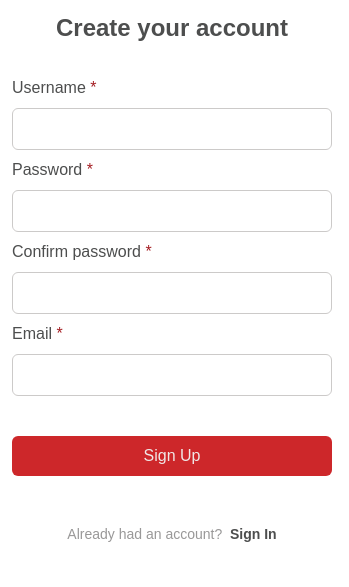
Test: register page › validates form fields - missing email
In the field labelled "Username": (172, 129) [12,108,332,150], type "Jessica"
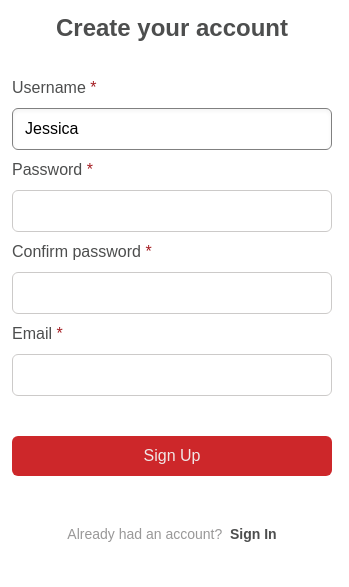
In the field labelled "Password": (172, 211) [12,190,332,232], type "abcdefgh"
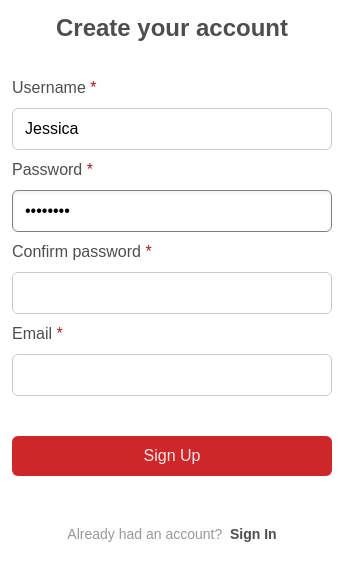
In the field labelled "Confirm password": (172, 293) [12,272,332,314], type "abcdefgh"
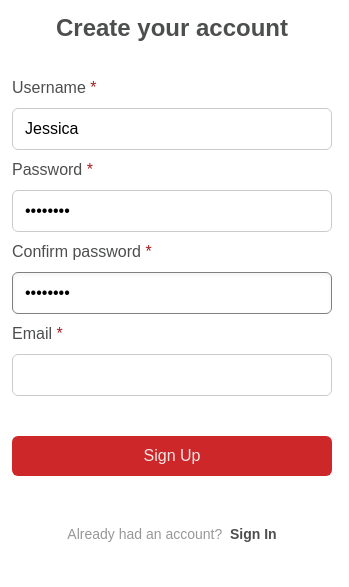
Click the button with aria-label "submit": (172, 456) [12,436,332,476]
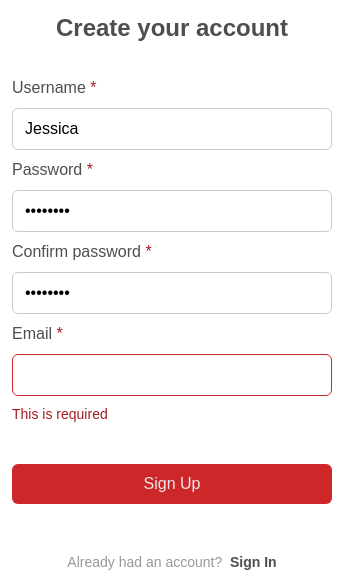
Check: the number of messages is 1, box [12,406,108,422]
